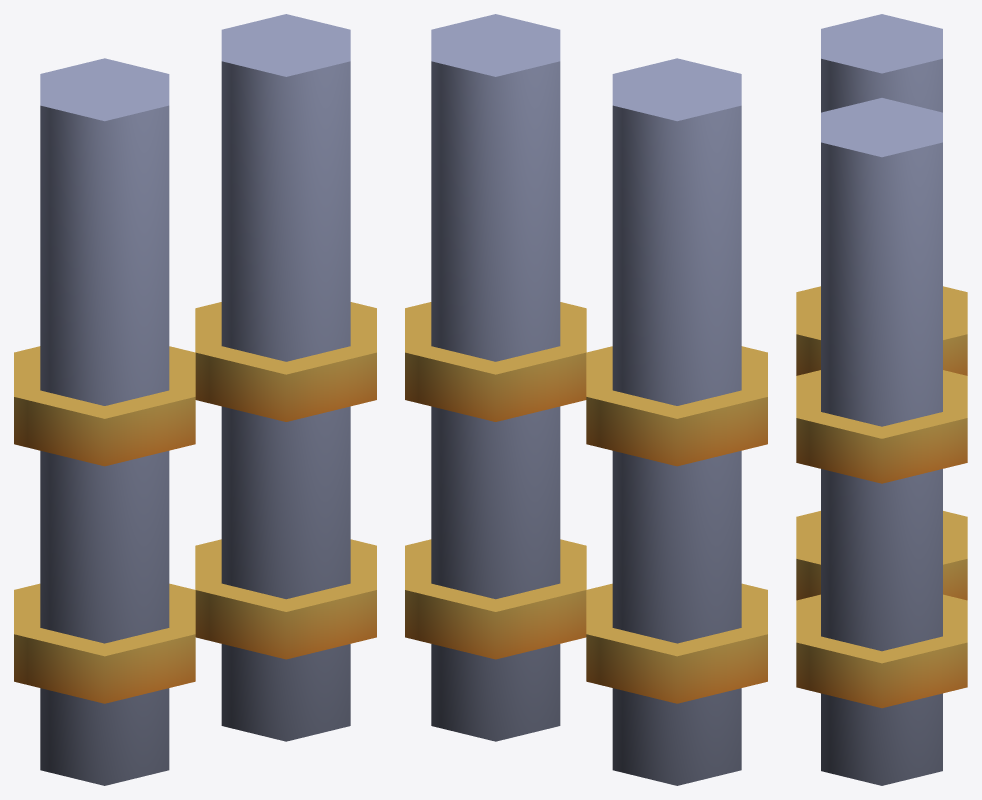
File: wall-detail.glb
The picture shows the model from 3 angles, left to right: view 1: azimuth 30°, elevation 25°; view 2: azimuth 150°, elevation 25°; view 3: azimuth 270°, elevation 25°; orthographic projection. The views are drawn at different scales.
Parts seen in each view (by area): view 1: wall-detail; view 2: wall-detail; view 3: wall-detail.
Part boxes in pixels (x1,y1,x2,y2): wall-detail: [14, 14, 376, 785]; wall-detail: [405, 14, 767, 785]; wall-detail: [796, 14, 967, 785].
Bounding box in the file's own units: 0.4 × 0.7 × 0.1732.
